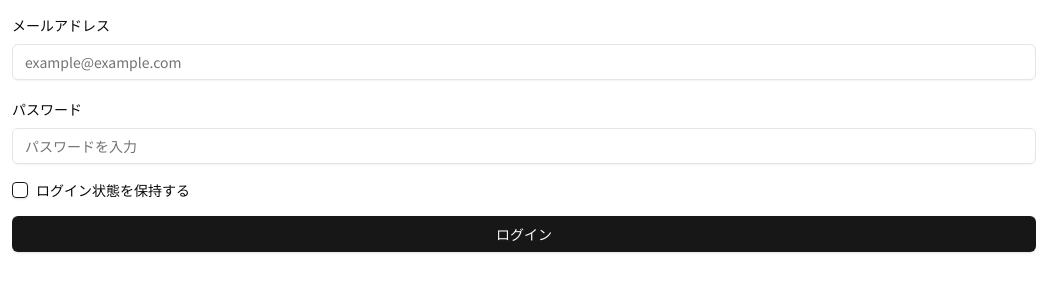
Test: LoginForm › フォームバリデーション › パスワード未入力でsubmitするとバリデーションエラーが表示されること
Type "test@example.com" into the field labelled "メールアドレス" at (524, 62), box [12, 44, 1036, 80]
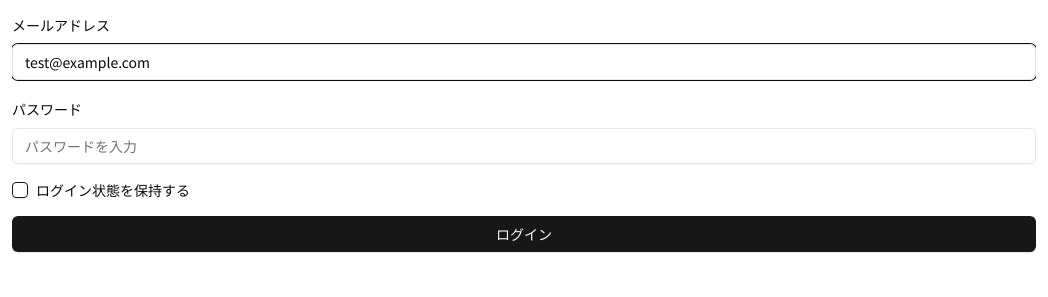
Click the button "ログイン" at (524, 234), box [12, 216, 1036, 252]
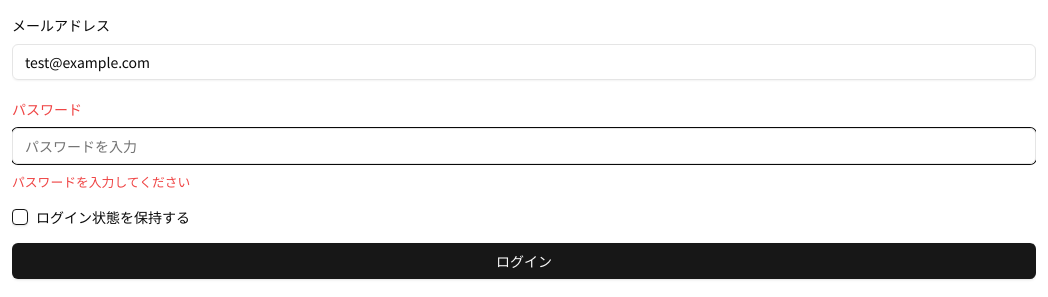
expect the text "パスワードを入力してください" is shown: met, box [12, 172, 190, 191]
